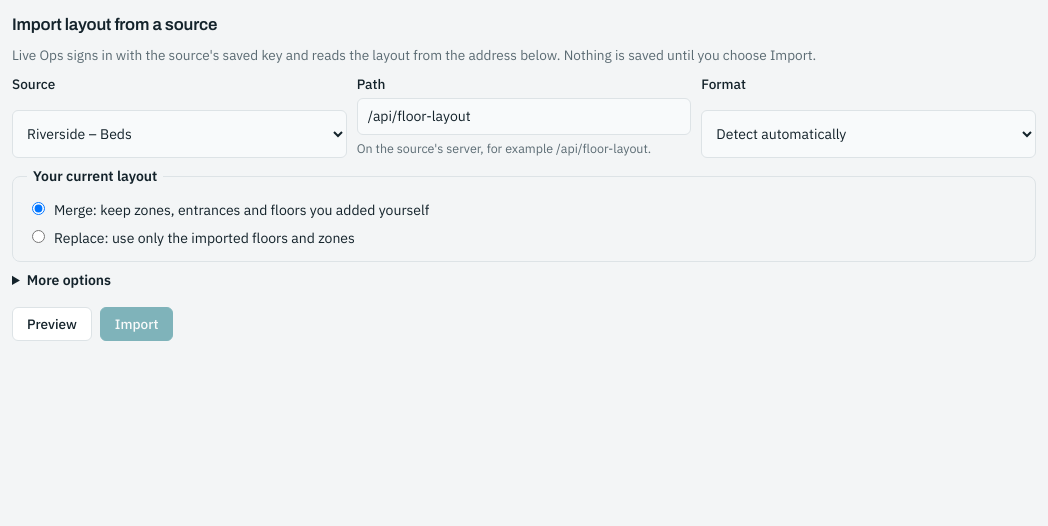
it: lists only API sources and previews with the default path, then imports
This screenshot has width=1048, height=526.
Expected: the field labelled "Path" holds "/api/floor-layout", [357,98,691,135]
Expected: the button "Import" is disabled, [100,307,173,341]
Click the button "Preview": (52, 324) [12,307,92,341]
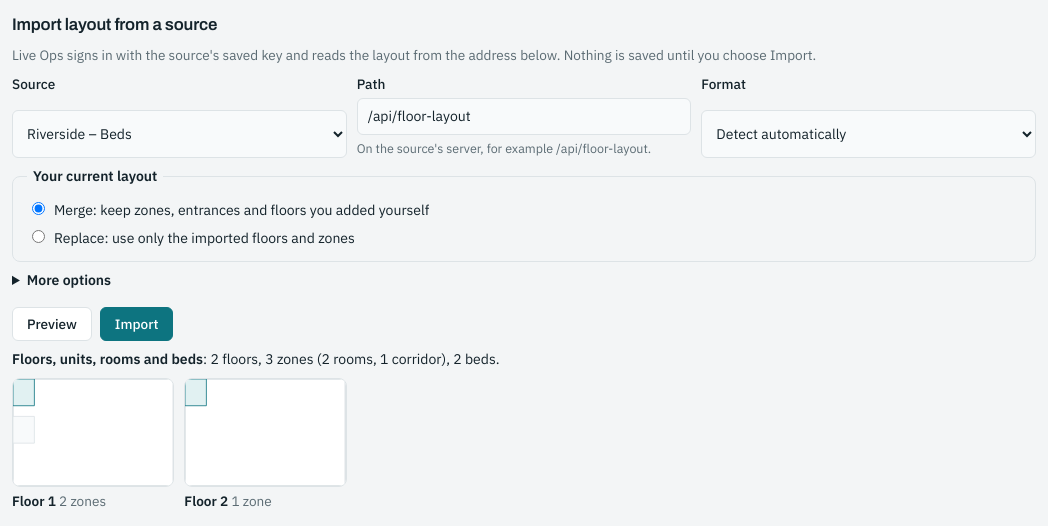
Expected: the element named "Import preview" is shown, [12,350,500,510]
Expected: the text "2 floors, 3 zones (2 rooms, 1 corridor), 2 beds" is shown, [12,350,500,368]
Expected: the picture named "Floor 1: 2 zones" is shown, [12,378,174,487]
Click the radio button labelled "Replace: use only the imported floors and zones": (38, 236) [32,230,45,243]
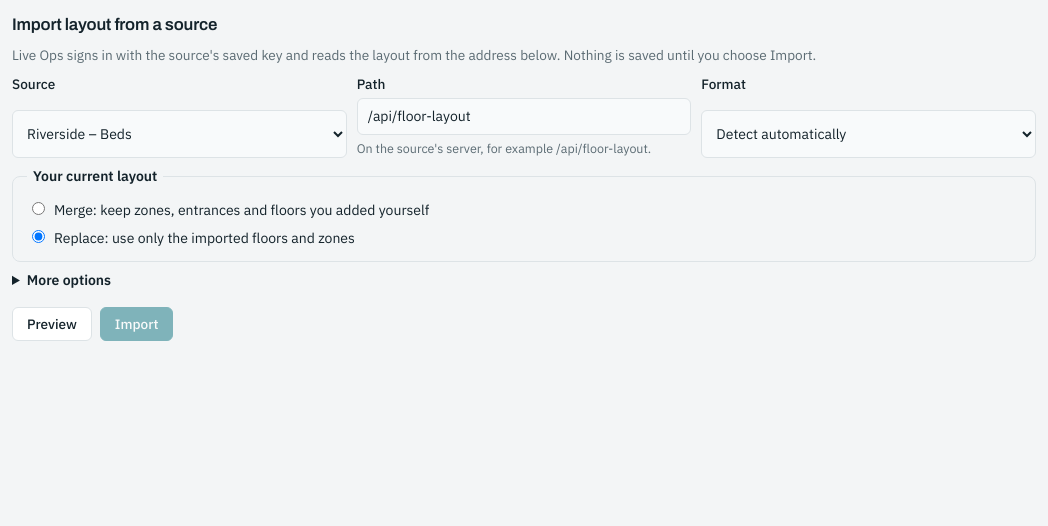
Click the button "Preview": (52, 324) [12,307,92,341]
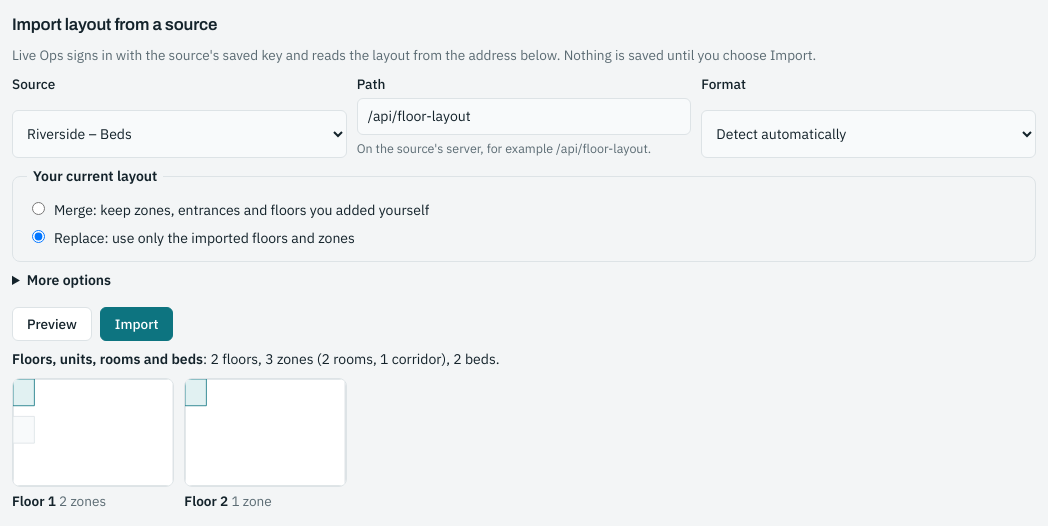
Expected: the element named "Import preview" is shown, [12,350,500,510]
Click the button "Import": (137, 324) [100,307,173,341]
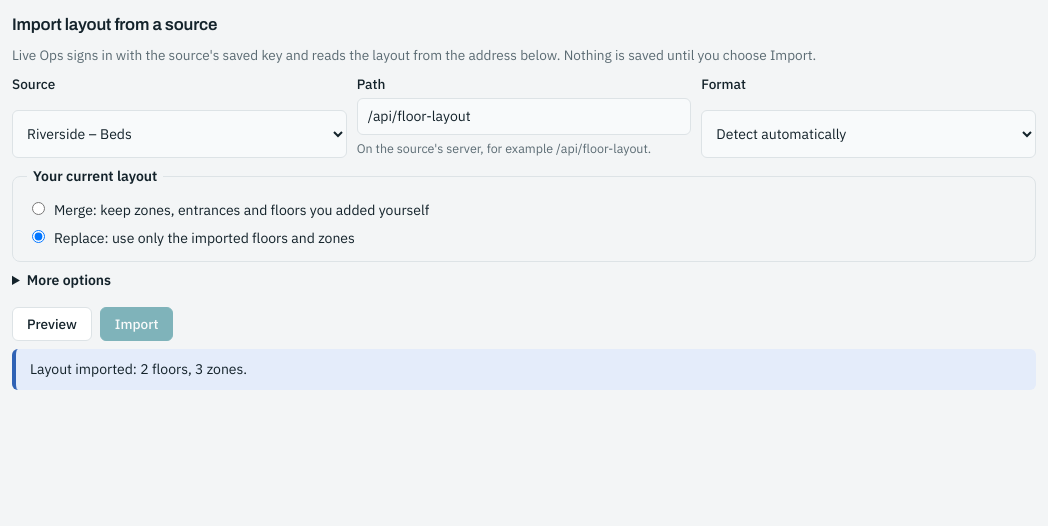
Expected: the message shows "Layout imported: 2 floors, 3 zones", [30,360,247,378]
